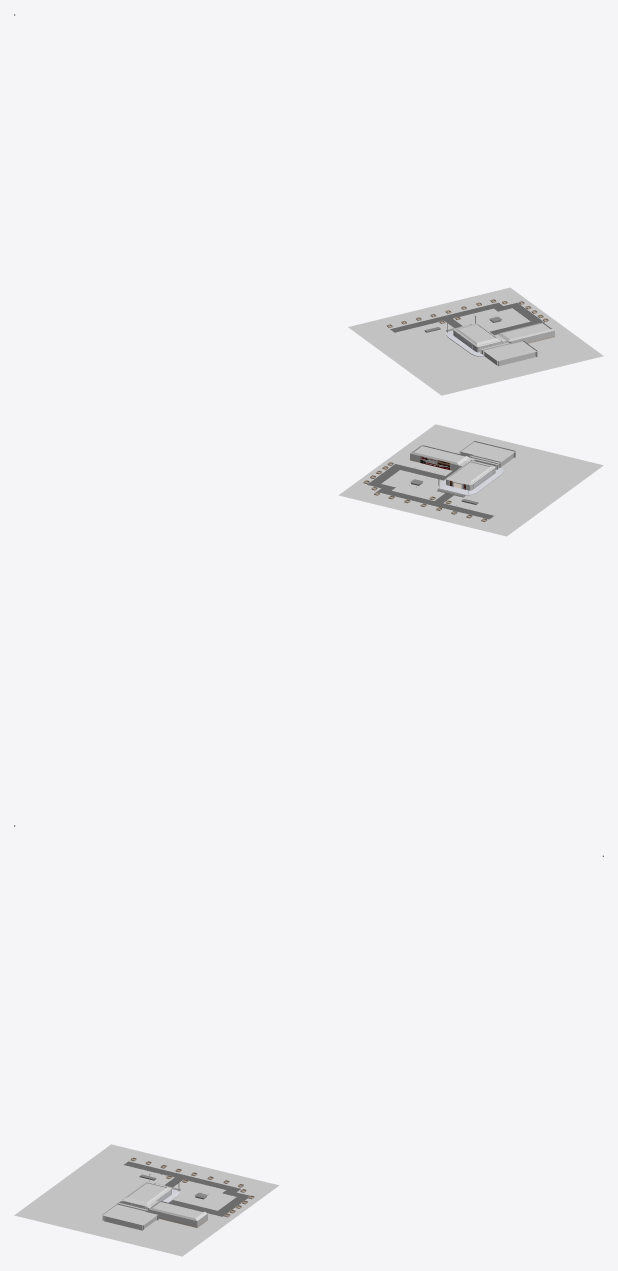
The model's file is museo3.2.glb.
3 views of the same model, one above another, from view 1: azimuth 30°, elevation 25°; view 2: azimuth 150°, elevation 25°; view 3: azimuth 330°, elevation 25° (orthographic). The views are drawn at different scales.
Parts seen in each view (by area): view 1: superficie, camino, estructura.003, estructura, sala; view 2: superficie, camino, estructura.003, estructura, sala, estructura2; view 3: superficie, camino, estructura.003, sala, estructura.
Part boxes in pixels (box(x1,y1,x2,y2)): superficie: box(348, 287, 603, 395); camino: box(390, 302, 544, 335); estructura.003: box(480, 340, 537, 366); estructura: box(453, 323, 501, 352); sala: box(498, 322, 554, 342); superficie: box(338, 424, 603, 536); camino: box(367, 464, 493, 519); estructura.003: box(459, 441, 515, 469); estructura: box(446, 460, 495, 490); sala: box(410, 445, 468, 470); estructura2: box(438, 468, 503, 495); superficie: box(14, 1144, 279, 1256); camino: box(124, 1161, 249, 1216); estructura.003: box(102, 1201, 158, 1231); sala: box(149, 1201, 207, 1226); estructura: box(122, 1182, 171, 1206).
Size of the model in its own units: 375 by 25.87 by 1990.
Materials: 23 (10 with a texture image).
